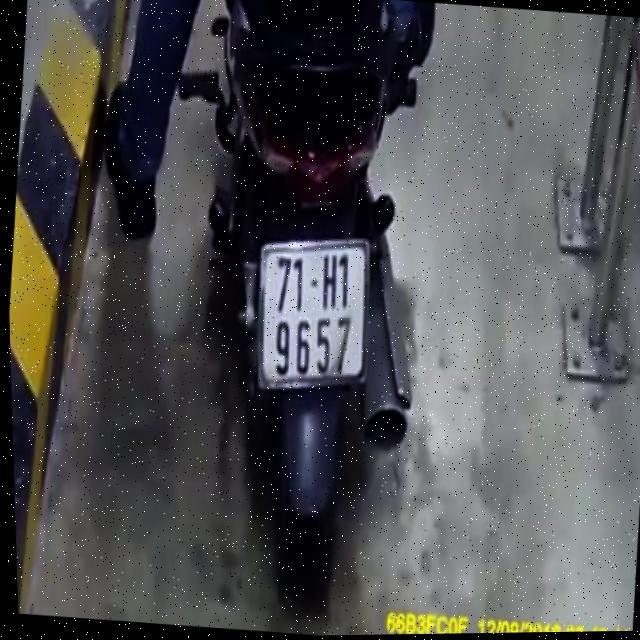motorcycle: (138, 0, 463, 608)
plate: (240, 228, 379, 399)
